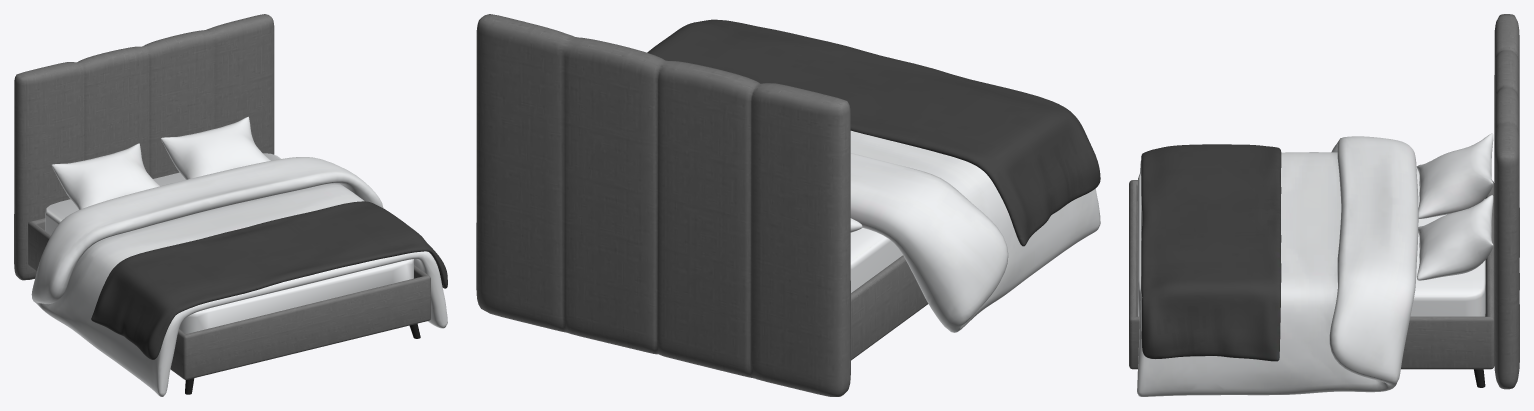
Rendered from Upholstered_bed.glb.
The picture shows the model from 3 angles, left to right: view 1: azimuth 30°, elevation 25°; view 2: azimuth 150°, elevation 25°; view 3: azimuth 270°, elevation 25°; orthographic projection. The views are drawn at different scales.
Visible parts, largest first — view 1: Object_6, Object_4; view 2: Object_4, Object_6; view 3: Object_6, Object_4.
Boxes of the visible parts, x1=… form: Object_6: x1=31, y1=116, x2=447, y2=396; Object_4: x1=14, y1=14, x2=430, y2=394; Object_4: x1=476, y1=14, x2=928, y2=396; Object_6: x1=647, y1=19, x2=1100, y2=332; Object_6: x1=1137, y1=133, x2=1493, y2=396; Object_4: x1=1129, y1=14, x2=1519, y2=389.
Bounding box in the file's own units: 2.3 × 1.36 × 2.02.
Materials: 2 (2 with a texture image).
